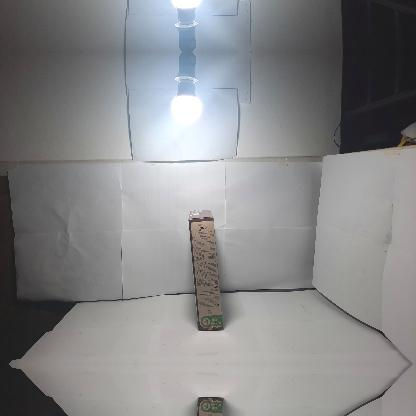Koko-Krunch: (187, 209, 223, 331)
